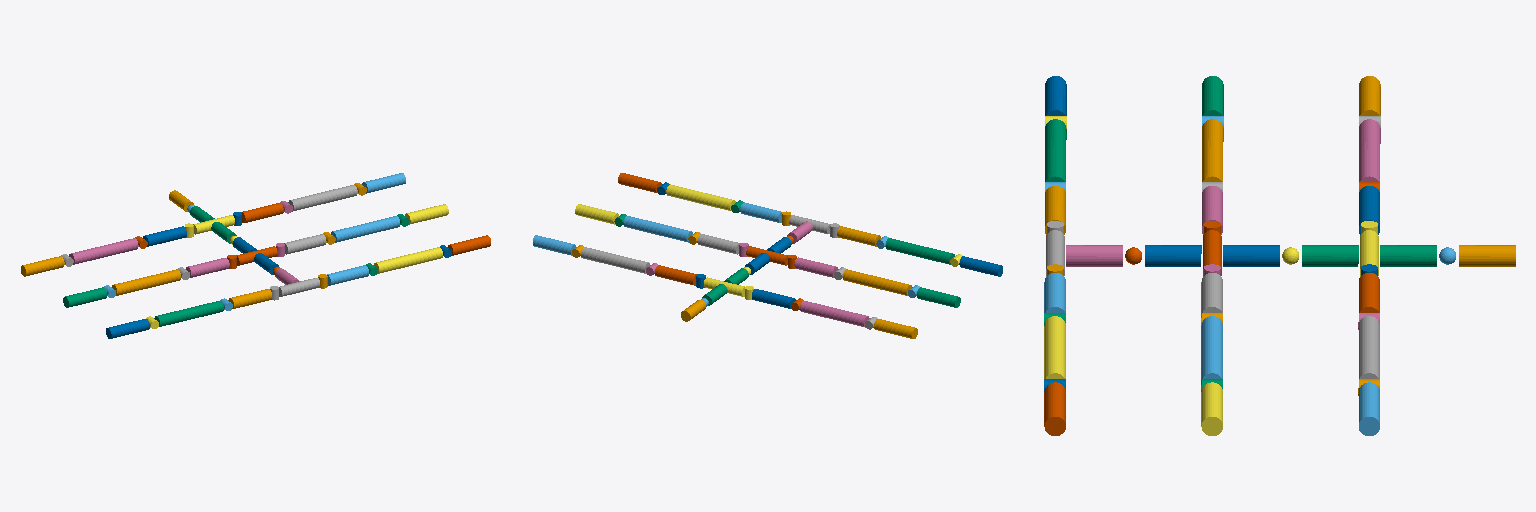
--- What the picture shows (computed from the rendered views, not written in the file) ---
3 views of the same robot in one strip: view 1: azimuth 30°, elevation 25°; view 2: azimuth 150°, elevation 25°; view 3: azimuth 270°, elevation 25° (orthographic).
Model contact/centipede with 54 links and 53 joints (21 revolute, 32 fixed), rooted at main0_A, posed all joints at 0.
Visible links, largest first — view 1: pair0leg2link2, pair1leg1link2, pair1leg2link2, pair2leg2link2, pair2leg1link2, pair0leg1link2; view 2: pair0leg1link2, pair0leg2link2, pair1leg1link2, pair1leg2link2, pair2leg1link2, pair2leg2link2; view 3: pair1leg1link2, pair2leg1link2, pair0leg2link2, pair1leg2link2, pair2leg2link2, pair0leg1link2, main0_A, main0, main1, main2, main1_A, main2_A (+15 smaller).
Link boxes in pixels (x1=…): pair0leg2link2: x1=69, y1=238, x2=138, y2=264; pair1leg1link2: x1=331, y1=216, x2=399, y2=242; pair1leg2link2: x1=112, y1=269, x2=180, y2=295; pair2leg2link2: x1=154, y1=301, x2=223, y2=326; pair2leg1link2: x1=374, y1=247, x2=442, y2=273; pair0leg1link2: x1=288, y1=185, x2=357, y2=211; pair0leg1link2: x1=581, y1=247, x2=649, y2=273; pair0leg2link2: x1=800, y1=301, x2=869, y2=327; pair1leg1link2: x1=624, y1=216, x2=692, y2=242; pair1leg2link2: x1=843, y1=269, x2=911, y2=295; pair2leg1link2: x1=666, y1=184, x2=735, y2=210; pair2leg2link2: x1=886, y1=238, x2=954, y2=264; pair1leg1link2: x1=1201, y1=316, x2=1222, y2=378; pair2leg1link2: x1=1044, y1=316, x2=1065, y2=378; pair0leg2link2: x1=1359, y1=119, x2=1380, y2=181; pair1leg2link2: x1=1202, y1=119, x2=1223, y2=181; pair2leg2link2: x1=1045, y1=119, x2=1066, y2=181; pair0leg1link2: x1=1359, y1=316, x2=1379, y2=378; main0_A: x1=1459, y1=245, x2=1515, y2=266; main0: x1=1380, y1=245, x2=1436, y2=266; main1: x1=1223, y1=245, x2=1279, y2=266; main2: x1=1066, y1=245, x2=1122, y2=266; main1_A: x1=1302, y1=245, x2=1358, y2=266; main2_A: x1=1145, y1=245, x2=1201, y2=266.
Bounding box of the posed robot: 2.98 × 1.74 × 0.0804 m (x, y, z).
Geometry: primitives only (box / cylinder / sphere), no mesh files.

URDF robot description (contact/centipede):
<?xml version="1.0"?>
<robot name="contact/centipede">
 <link name="main0_A">
  <inertial>
    <mass value="1"/>
    <inertia ixx="0.004075" ixy="0" ixz="0" iyy="0.004075" iyz="0" izz="0.0004"/>
  </inertial>
  <visual>
    <origin rpy="1.57 0 0" xyz="0 0 0"/>
    <geometry>
      <cylinder length="0.21" radius="0.04"/>
    </geometry>
  </visual>
  <collision>
    <origin rpy="1.57 0 0" xyz="0 0 0"/>
    <geometry>
      <cylinder length="0.21" radius="0.04"/>
    </geometry>
  </collision>
 </link>

<link name="main0_connector">
  <inertial>
   <mass value="1"/>
   <inertia ixx="0.00040960000000000004" ixy="0" ixz="0" iyy="0.00040960000000000004" iyz="0" izz="0.00040960000000000004"/>
  </inertial>
  <collision>
    <origin rpy="0 0 0" xyz="0 0 0"/>
    <geometry>
      <sphere radius="0.032"/>
    </geometry>
  </collision>
  <visual>
    <origin rpy="0 0 0" xyz="0 0 0"/>
    <geometry>
      <sphere radius="0.032"/>
    </geometry>
  </visual>
</link>

<joint name="joint_revolute_main0_A_main0_connector_Z" type="revolute">
  <origin rpy="0 0 0" xyz="0 -0.145 0"/>
  <parent link="main0_A"/>
  <child link="main0_connector"/>
  <axis xyz="1 0 0"/>
  <dynamics damping="0.01" friction="0.5"/>
  <limit lower="-1.57" upper="1.57" effort="0.01" velocity="100"/>
</joint>

 <link name="main0">
  <inertial>
    <mass value="1"/>
    <inertia ixx="0.004075" ixy="0" ixz="0" iyy="0.004075" iyz="0" izz="0.0004"/>
  </inertial>
  <visual>
    <origin rpy="1.57 0 0" xyz="0 0 0"/>
    <geometry>
      <cylinder length="0.21" radius="0.04"/>
    </geometry>
  </visual>
  <collision>
    <origin rpy="1.57 0 0" xyz="0 0 0"/>
    <geometry>
      <cylinder length="0.21" radius="0.04"/>
    </geometry>
  </collision>
 </link>

<joint name="joint_fixed_main0_connector_main0" type="fixed">
  <origin rpy="0 0 0" xyz="0 -0.145 0"/>
  <parent link="main0_connector"/>
  <child link="main0"/>
</joint>

 <link name="pair0middle_axis">
  <inertial>
    <mass value="1"/>
    <inertia ixx="0.007824" ixy="0" ixz="0" iyy="0.007824" iyz="0" izz="0.00032400000000000007"/>
  </inertial>
  <visual>
    <origin rpy="0 1.57 0" xyz="0 0 0"/>
    <geometry>
      <cylinder length="0.3" radius="0.036000000000000004"/>
    </geometry>
  </visual>
  <collision>
    <origin rpy="0 1.57 0" xyz="0 0 0"/>
    <geometry>
      <cylinder length="0.3" radius="0.036000000000000004"/>
    </geometry>
  </collision>
 </link>

<joint name="joint_fixed_main0_pair0middle_axis" type="fixed">
  <origin rpy="0 0 0" xyz="0 -0.145 0"/>
  <parent link="main0"/>
  <child link="pair0middle_axis"/>
</joint>

 <link name="pair0leg1central_link">
  <inertial>
    <mass value="1"/>
    <inertia ixx="0.0007893333333333333" ixy="0" ixz="0" iyy="0.0007893333333333333" iyz="0" izz="0.000256"/>
  </inertial>
  <visual>
    <origin rpy="0 0 1.57" xyz="0 0 0"/>
    <geometry>
      <cylinder length="0.08" radius="0.032"/>
    </geometry>
  </visual>
  <collision>
    <origin rpy="0 0 1.57" xyz="0 0 0"/>
    <geometry>
      <cylinder length="0.08" radius="0.032"/>
    </geometry>
  </collision>
 </link>

<joint name="joint_fixed_pair0middle_axis_pair0leg1central_link" type="fixed">
  <origin rpy="0 0 0" xyz="0.19 0 0"/>
  <parent link="pair0middle_axis"/>
  <child link="pair0leg1central_link"/>
</joint>

 <link name="pair0leg1link1">
  <inertial>
    <mass value="1"/>
    <inertia ixx="0.007899999999999999" ixy="0" ixz="0" iyy="0.007899999999999999" iyz="0" izz="0.0004"/>
  </inertial>
  <visual>
    <origin rpy="0 1.57 0" xyz="0.19 0 0"/>
    <geometry>
      <cylinder length="0.3" radius="0.04"/>
    </geometry>
  </visual>
  <collision>
    <origin rpy="0 1.57 0" xyz="0.19 0 0"/>
    <geometry>
      <cylinder length="0.3" radius="0.04"/>
    </geometry>
  </collision>
 </link>

<joint name="joint_revolute_pair0leg1central_link_pair0leg1link1_Z" type="revolute">
  <origin rpy="0 0 0" xyz="0 0 0"/>
  <parent link="pair0leg1central_link"/>
  <child link="pair0leg1link1"/>
  <axis xyz="0 0 1"/>
  <dynamics damping="0.01" friction="0.5"/>
  <limit lower="-1.57" upper="1.57" effort="0.01" velocity="100"/>
</joint>

 <link name="pair0leg1joint1">
  <inertial>
    <mass value="1"/>
    <inertia ixx="0.0007893333333333333" ixy="0" ixz="0" iyy="0.0007893333333333333" iyz="0" izz="0.000256"/>
  </inertial>
  <visual>
    <origin rpy="1.57 0 0" xyz="0.37999999999999995 0 0"/>
    <geometry>
      <cylinder length="0.08" radius="0.032"/>
    </geometry>
  </visual>
  <collision>
    <origin rpy="1.57 0 0" xyz="0.37999999999999995 0 0"/>
    <geometry>
      <cylinder length="0.08" radius="0.032"/>
    </geometry>
  </collision>
 </link>

<joint name="joint_fixed_pair0leg1link1_pair0leg1joint1" type="fixed">
  <origin rpy="0 0 0" xyz="0 0 0"/>
  <parent link="pair0leg1link1"/>
  <child link="pair0leg1joint1"/>
</joint>

 <link name="pair0leg1link2">
  <inertial>
    <mass value="1"/>
    <inertia ixx="0.021233333333333333" ixy="0" ixz="0" iyy="0.021233333333333333" iyz="0" izz="0.0004"/>
  </inertial>
  <visual>
    <origin rpy="0 1.57 0" xyz="0.29 0 0"/>
    <geometry>
      <cylinder length="0.5" radius="0.04"/>
    </geometry>
  </visual>
  <collision>
    <origin rpy="0 1.57 0" xyz="0.29 0 0"/>
    <geometry>
      <cylinder length="0.5" radius="0.04"/>
    </geometry>
  </collision>
 </link>

<joint name="joint_revolute_pair0leg1joint1_pair0leg1link2_Z" type="revolute">
  <origin rpy="0 0 0" xyz="0.37999999999999995 0 0"/>
  <parent link="pair0leg1joint1"/>
  <child link="pair0leg1link2"/>
  <axis xyz="0 1 0"/>
  <dynamics damping="0.01" friction="0.5"/>
  <limit lower="-1.57" upper="1.57" effort="0.01" velocity="100"/>
</joint>

 <link name="pair0leg1joint2">
  <inertial>
    <mass value="1"/>
    <inertia ixx="0.0007893333333333333" ixy="0" ixz="0" iyy="0.0007893333333333333" iyz="0" izz="0.000256"/>
  </inertial>
  <visual>
    <origin rpy="1.57 0 0" xyz="0.58 0 0"/>
    <geometry>
      <cylinder length="0.08" radius="0.032"/>
    </geometry>
  </visual>
  <collision>
    <origin rpy="1.57 0 0" xyz="0.58 0 0"/>
    <geometry>
      <cylinder length="0.08" radius="0.032"/>
    </geometry>
  </collision>
 </link>

<joint name="joint_fixed_pair0leg1link2_pair0leg1joint2" type="fixed">
  <origin rpy="0 0 0" xyz="0 0 0"/>
  <parent link="pair0leg1link2"/>
  <child link="pair0leg1joint2"/>
</joint>

 <link name="pair0leg1link3">
  <inertial>
    <mass value="1"/>
    <inertia ixx="0.007899999999999999" ixy="0" ixz="0" iyy="0.007899999999999999" iyz="0" izz="0.0004"/>
  </inertial>
  <visual>
    <origin rpy="0 1.57 0" xyz="0.19 0 0"/>
    <geometry>
      <cylinder length="0.3" radius="0.04"/>
    </geometry>
  </visual>
  <collision>
    <origin rpy="0 1.57 0" xyz="0.19 0 0"/>
    <geometry>
      <cylinder length="0.3" radius="0.04"/>
    </geometry>
  </collision>
 </link>

<joint name="joint_revolute_pair0leg1joint2_pair0leg1link3_Z" type="revolute">
  <origin rpy="0 0 0" xyz="0.58 0 0"/>
  <parent link="pair0leg1joint2"/>
  <child link="pair0leg1link3"/>
  <axis xyz="0 1 0"/>
  <dynamics damping="0.01" friction="0.5"/>
  <limit lower="-1.57" upper="1.57" effort="0.01" velocity="100"/>
</joint>

<link name="pair0leg1foot" physical="0">
  <inertial>
   <mass value="1"/>
   <inertia ixx="0.4" ixy="0" ixz="0" iyy="0.4" iyz="0" izz="0.4"/>
  </inertial>
</link>

<joint name="joint_fixed_pair0leg1link3_pair0leg1foot" type="fixed">
  <origin rpy="0 0 0" xyz="0.37999999999999995 0 0"/>
  <parent link="pair0leg1link3"/>
  <child link="pair0leg1foot"/>
</joint>

 <link name="pair0leg2central_link">
  <inertial>
    <mass value="1"/>
    <inertia ixx="0.0007893333333333333" ixy="0" ixz="0" iyy="0.0007893333333333333" iyz="0" izz="0.000256"/>
  </inertial>
  <visual>
    <origin rpy="0 0 1.57" xyz="0 0 0"/>
    <geometry>
      <cylinder length="0.08" radius="0.032"/>
    </geometry>
  </visual>
  <collision>
    <origin rpy="0 0 1.57" xyz="0 0 0"/>
    <geometry>
      <cylinder length="0.08" radius="0.032"/>
    </geometry>
  </collision>
 </link>

<joint name="joint_fixed_pair0middle_axis_pair0leg2central_link" type="fixed">
  <origin rpy="0 0 3.14" xyz="-0.19 0 0"/>
  <parent link="pair0middle_axis"/>
  <child link="pair0leg2central_link"/>
</joint>

 <link name="pair0leg2link1">
  <inertial>
    <mass value="1"/>
    <inertia ixx="0.007899999999999999" ixy="0" ixz="0" iyy="0.007899999999999999" iyz="0" izz="0.0004"/>
  </inertial>
  <visual>
    <origin rpy="0 1.57 0" xyz="0.19 0 0"/>
    <geometry>
      <cylinder length="0.3" radius="0.04"/>
    </geometry>
  </visual>
  <collision>
    <origin rpy="0 1.57 0" xyz="0.19 0 0"/>
    <geometry>
      <cylinder length="0.3" radius="0.04"/>
    </geometry>
  </collision>
 </link>

<joint name="joint_revolute_pair0leg2central_link_pair0leg2link1_Z" type="revolute">
  <origin rpy="0 0 0" xyz="0 0 0"/>
  <parent link="pair0leg2central_link"/>
  <child link="pair0leg2link1"/>
  <axis xyz="0 0 1"/>
  <dynamics damping="0.01" friction="0.5"/>
  <limit lower="-1.57" upper="1.57" effort="0.01" velocity="100"/>
</joint>

 <link name="pair0leg2joint1">
  <inertial>
    <mass value="1"/>
    <inertia ixx="0.0007893333333333333" ixy="0" ixz="0" iyy="0.0007893333333333333" iyz="0" izz="0.000256"/>
  </inertial>
  <visual>
    <origin rpy="1.57 0 0" xyz="0.37999999999999995 0 0"/>
    <geometry>
      <cylinder length="0.08" radius="0.032"/>
    </geometry>
  </visual>
  <collision>
    <origin rpy="1.57 0 0" xyz="0.37999999999999995 0 0"/>
    <geometry>
      <cylinder length="0.08" radius="0.032"/>
    </geometry>
  </collision>
 </link>

<joint name="joint_fixed_pair0leg2link1_pair0leg2joint1" type="fixed">
  <origin rpy="0 0 0" xyz="0 0 0"/>
  <parent link="pair0leg2link1"/>
  <child link="pair0leg2joint1"/>
</joint>

 <link name="pair0leg2link2">
  <inertial>
    <mass value="1"/>
    <inertia ixx="0.021233333333333333" ixy="0" ixz="0" iyy="0.021233333333333333" iyz="0" izz="0.0004"/>
  </inertial>
  <visual>
    <origin rpy="0 1.57 0" xyz="0.29 0 0"/>
    <geometry>
      <cylinder length="0.5" radius="0.04"/>
    </geometry>
  </visual>
  <collision>
    <origin rpy="0 1.57 0" xyz="0.29 0 0"/>
    <geometry>
      <cylinder length="0.5" radius="0.04"/>
    </geometry>
  </collision>
 </link>

<joint name="joint_revolute_pair0leg2joint1_pair0leg2link2_Z" type="revolute">
  <origin rpy="0 0 0" xyz="0.37999999999999995 0 0"/>
  <parent link="pair0leg2joint1"/>
  <child link="pair0leg2link2"/>
  <axis xyz="0 1 0"/>
  <dynamics damping="0.01" friction="0.5"/>
  <limit lower="-1.57" upper="1.57" effort="0.01" velocity="100"/>
</joint>

 <link name="pair0leg2joint2">
  <inertial>
    <mass value="1"/>
    <inertia ixx="0.0007893333333333333" ixy="0" ixz="0" iyy="0.0007893333333333333" iyz="0" izz="0.000256"/>
  </inertial>
  <visual>
    <origin rpy="1.57 0 0" xyz="0.58 0 0"/>
    <geometry>
      <cylinder length="0.08" radius="0.032"/>
    </geometry>
  </visual>
  <collision>
    <origin rpy="1.57 0 0" xyz="0.58 0 0"/>
    <geometry>
      <cylinder length="0.08" radius="0.032"/>
    </geometry>
  </collision>
 </link>

<joint name="joint_fixed_pair0leg2link2_pair0leg2joint2" type="fixed">
  <origin rpy="0 0 0" xyz="0 0 0"/>
  <parent link="pair0leg2link2"/>
  <child link="pair0leg2joint2"/>
</joint>

 <link name="pair0leg2link3">
  <inertial>
    <mass value="1"/>
    <inertia ixx="0.007899999999999999" ixy="0" ixz="0" iyy="0.007899999999999999" iyz="0" izz="0.0004"/>
  </inertial>
  <visual>
    <origin rpy="0 1.57 0" xyz="0.19 0 0"/>
    <geometry>
      <cylinder length="0.3" radius="0.04"/>
    </geometry>
  </visual>
  <collision>
    <origin rpy="0 1.57 0" xyz="0.19 0 0"/>
    <geometry>
      <cylinder length="0.3" radius="0.04"/>
    </geometry>
  </collision>
 </link>

<joint name="joint_revolute_pair0leg2joint2_pair0leg2link3_Z" type="revolute">
  <origin rpy="0 0 0" xyz="0.58 0 0"/>
  <parent link="pair0leg2joint2"/>
  <child link="pair0leg2link3"/>
  <axis xyz="0 1 0"/>
  <dynamics damping="0.01" friction="0.5"/>
  <limit lower="-1.57" upper="1.57" effort="0.01" velocity="100"/>
</joint>

<link name="pair0leg2foot" physical="0">
  <inertial>
   <mass value="1"/>
   <inertia ixx="0.4" ixy="0" ixz="0" iyy="0.4" iyz="0" izz="0.4"/>
  </inertial>
</link>

<joint name="joint_fixed_pair0leg2link3_pair0leg2foot" type="fixed">
  <origin rpy="0 0 0" xyz="0.37999999999999995 0 0"/>
  <parent link="pair0leg2link3"/>
  <child link="pair0leg2foot"/>
</joint>

 <link name="main1_A">
  <inertial>
    <mass value="1"/>
    <inertia ixx="0.004075" ixy="0" ixz="0" iyy="0.004075" iyz="0" izz="0.0004"/>
  </inertial>
  <visual>
    <origin rpy="1.57 0 0" xyz="0 0 0"/>
    <geometry>
      <cylinder length="0.21" radius="0.04"/>
    </geometry>
  </visual>
  <collision>
    <origin rpy="1.57 0 0" xyz="0 0 0"/>
    <geometry>
      <cylinder length="0.21" radius="0.04"/>
    </geometry>
  </collision>
 </link>

<joint name="joint_fixed_main0_main1_A" type="fixed">
  <origin rpy="0 0 0" xyz="0 -0.29 0"/>
  <parent link="main0"/>
  <child link="main1_A"/>
</joint>

<link name="main1_connector">
  <inertial>
   <mass value="1"/>
   <inertia ixx="0.00040960000000000004" ixy="0" ixz="0" iyy="0.00040960000000000004" iyz="0" izz="0.00040960000000000004"/>
  </inertial>
  <collision>
    <origin rpy="0 0 0" xyz="0 0 0"/>
    <geometry>
      <sphere radius="0.032"/>
    </geometry>
  </collision>
  <visual>
    <origin rpy="0 0 0" xyz="0 0 0"/>
    <geometry>
      <sphere radius="0.032"/>
    </geometry>
  </visual>
</link>

<joint name="joint_revolute_main1_A_main1_connector_Z" type="revolute">
  <origin rpy="0 0 0" xyz="0 -0.145 0"/>
  <parent link="main1_A"/>
  <child link="main1_connector"/>
  <axis xyz="1 0 0"/>
  <dynamics damping="0.01" friction="0.5"/>
  <limit lower="-1.57" upper="1.57" effort="0.01" velocity="100"/>
</joint>

 <link name="main1">
  <inertial>
    <mass value="1"/>
    <inertia ixx="0.004075" ixy="0" ixz="0" iyy="0.004075" iyz="0" izz="0.0004"/>
  </inertial>
  <visual>
    <origin rpy="1.57 0 0" xyz="0 0 0"/>
    <geometry>
      <cylinder length="0.21" radius="0.04"/>
    </geometry>
  </visual>
  <collision>
    <origin rpy="1.57 0 0" xyz="0 0 0"/>
    <geometry>
      <cylinder length="0.21" radius="0.04"/>
    </geometry>
  </collision>
 </link>

<joint name="joint_fixed_main1_connector_main1" type="fixed">
  <origin rpy="0 0 0" xyz="0 -0.145 0"/>
  <parent link="main1_connector"/>
  <child link="main1"/>
</joint>

 <link name="pair1middle_axis">
  <inertial>
    <mass value="1"/>
    <inertia ixx="0.007824" ixy="0" ixz="0" iyy="0.007824" iyz="0" izz="0.00032400000000000007"/>
  </inertial>
  <visual>
    <origin rpy="0 1.57 0" xyz="0 0 0"/>
    <geometry>
      <cylinder length="0.3" radius="0.036000000000000004"/>
    </geometry>
  </visual>
  <collision>
    <origin rpy="0 1.57 0" xyz="0 0 0"/>
    <geometry>
      <cylinder length="0.3" radius="0.036000000000000004"/>
    </geometry>
  </collision>
 </link>

<joint name="joint_fixed_main1_pair1middle_axis" type="fixed">
  <origin rpy="0 0 0" xyz="0 -0.145 0"/>
  <parent link="main1"/>
  <child link="pair1middle_axis"/>
</joint>

 <link name="pair1leg1central_link">
  <inertial>
    <mass value="1"/>
    <inertia ixx="0.0007893333333333333" ixy="0" ixz="0" iyy="0.0007893333333333333" iyz="0" izz="0.000256"/>
  </inertial>
  <visual>
    <origin rpy="0 0 1.57" xyz="0 0 0"/>
    <geometry>
      <cylinder length="0.08" radius="0.032"/>
    </geometry>
  </visual>
  <collision>
    <origin rpy="0 0 1.57" xyz="0 0 0"/>
    <geometry>
      <cylinder length="0.08" radius="0.032"/>
    </geometry>
  </collision>
 </link>

<joint name="joint_fixed_pair1middle_axis_pair1leg1central_link" type="fixed">
  <origin rpy="0 0 0" xyz="0.19 0 0"/>
  <parent link="pair1middle_axis"/>
  <child link="pair1leg1central_link"/>
</joint>

 <link name="pair1leg1link1">
  <inertial>
    <mass value="1"/>
    <inertia ixx="0.007899999999999999" ixy="0" ixz="0" iyy="0.007899999999999999" iyz="0" izz="0.0004"/>
  </inertial>
  <visual>
    <origin rpy="0 1.57 0" xyz="0.19 0 0"/>
    <geometry>
      <cylinder length="0.3" radius="0.04"/>
    </geometry>
  </visual>
  <collision>
    <origin rpy="0 1.57 0" xyz="0.19 0 0"/>
    <geometry>
      <cylinder length="0.3" radius="0.04"/>
    </geometry>
  </collision>
 </link>

<joint name="joint_revolute_pair1leg1central_link_pair1leg1link1_Z" type="revolute">
  <origin rpy="0 0 0" xyz="0 0 0"/>
  <parent link="pair1leg1central_link"/>
  <child link="pair1leg1link1"/>
  <axis xyz="0 0 1"/>
  <dynamics damping="0.01" friction="0.5"/>
  <limit lower="-1.57" upper="1.57" effort="0.01" velocity="100"/>
</joint>

 <link name="pair1leg1joint1">
  <inertial>
    <mass value="1"/>
    <inertia ixx="0.0007893333333333333" ixy="0" ixz="0" iyy="0.0007893333333333333" iyz="0" izz="0.000256"/>
  </inertial>
  <visual>
    <origin rpy="1.57 0 0" xyz="0.37999999999999995 0 0"/>
    <geometry>
      <cylinder length="0.08" radius="0.032"/>
    </geometry>
  </visual>
  <collision>
    <origin rpy="1.57 0 0" xyz="0.37999999999999995 0 0"/>
    <geometry>
      <cylinder length="0.08" radius="0.032"/>
    </geometry>
  </collision>
 </link>

<joint name="joint_fixed_pair1leg1link1_pair1leg1joint1" type="fixed">
  <origin rpy="0 0 0" xyz="0 0 0"/>
  <parent link="pair1leg1link1"/>
  <child link="pair1leg1joint1"/>
</joint>

 <link name="pair1leg1link2">
  <inertial>
    <mass value="1"/>
    <inertia ixx="0.021233333333333333" ixy="0" ixz="0" iyy="0.021233333333333333" iyz="0" izz="0.0004"/>
  </inertial>
  <visual>
    <origin rpy="0 1.57 0" xyz="0.29 0 0"/>
    <geometry>
      <cylinder length="0.5" radius="0.04"/>
    </geometry>
  </visual>
  <collision>
    <origin rpy="0 1.57 0" xyz="0.29 0 0"/>
    <geometry>
      <cylinder length="0.5" radius="0.04"/>
    </geometry>
  </collision>
 </link>

<joint name="joint_revolute_pair1leg1joint1_pair1leg1link2_Z" type="revolute">
  <origin rpy="0 0 0" xyz="0.37999999999999995 0 0"/>
  <parent link="pair1leg1joint1"/>
  <child link="pair1leg1link2"/>
  <axis xyz="0 1 0"/>
  <dynamics damping="0.01" friction="0.5"/>
  <limit lower="-1.57" upper="1.57" effort="0.01" velocity="100"/>
</joint>

 <link name="pair1leg1joint2">
  <inertial>
    <mass value="1"/>
    <inertia ixx="0.0007893333333333333" ixy="0" ixz="0" iyy="0.0007893333333333333" iyz="0" izz="0.000256"/>
  </inertial>
  <visual>
    <origin rpy="1.57 0 0" xyz="0.58 0 0"/>
    <geometry>
      <cylinder length="0.08" radius="0.032"/>
    </geometry>
  </visual>
  <collision>
    <origin rpy="1.57 0 0" xyz="0.58 0 0"/>
    <geometry>
      <cylinder length="0.08" radius="0.032"/>
    </geometry>
  </collision>
 </link>

<joint name="joint_fixed_pair1leg1link2_pair1leg1joint2" type="fixed">
  <origin rpy="0 0 0" xyz="0 0 0"/>
  <parent link="pair1leg1link2"/>
  <child link="pair1leg1joint2"/>
</joint>

 <link name="pair1leg1link3">
  <inertial>
    <mass value="1"/>
    <inertia ixx="0.007899999999999999" ixy="0" ixz="0" iyy="0.007899999999999999" iyz="0" izz="0.0004"/>
  </inertial>
  <visual>
    <origin rpy="0 1.57 0" xyz="0.19 0 0"/>
    <geometry>
      <cylinder length="0.3" radius="0.04"/>
    </geometry>
  </visual>
  <collision>
    <origin rpy="0 1.57 0" xyz="0.19 0 0"/>
    <geometry>
      <cylinder length="0.3" radius="0.04"/>
    </geometry>
  </collision>
 </link>

<joint name="joint_revolute_pair1leg1joint2_pair1leg1link3_Z" type="revolute">
  <origin rpy="0 0 0" xyz="0.58 0 0"/>
  <parent link="pair1leg1joint2"/>
  <child link="pair1leg1link3"/>
  <axis xyz="0 1 0"/>
  <dynamics damping="0.01" friction="0.5"/>
  <limit lower="-1.57" upper="1.57" effort="0.01" velocity="100"/>
</joint>

<link name="pair1leg1foot" physical="0">
  <inertial>
   <mass value="1"/>
   <inertia ixx="0.4" ixy="0" ixz="0" iyy="0.4" iyz="0" izz="0.4"/>
  </inertial>
</link>

<joint name="joint_fixed_pair1leg1link3_pair1leg1foot" type="fixed">
  <origin rpy="0 0 0" xyz="0.37999999999999995 0 0"/>
  <parent link="pair1leg1link3"/>
  <child link="pair1leg1foot"/>
</joint>

 <link name="pair1leg2central_link">
  <inertial>
    <mass value="1"/>
    <inertia ixx="0.0007893333333333333" ixy="0" ixz="0" iyy="0.0007893333333333333" iyz="0" izz="0.000256"/>
  </inertial>
  <visual>
    <origin rpy="0 0 1.57" xyz="0 0 0"/>
    <geometry>
      <cylinder length="0.08" radius="0.032"/>
    </geometry>
  </visual>
  <collision>
    <origin rpy="0 0 1.57" xyz="0 0 0"/>
    <geometry>
      <cylinder length="0.08" radius="0.032"/>
    </geometry>
  </collision>
 </link>

<joint name="joint_fixed_pair1middle_axis_pair1leg2central_link" type="fixed">
  <origin rpy="0 0 3.14" xyz="-0.19 0 0"/>
  <parent link="pair1middle_axis"/>
  <child link="pair1leg2central_link"/>
</joint>

 <link name="pair1leg2link1">
  <inertial>
    <mass value="1"/>
    <inertia ixx="0.007899999999999999" ixy="0" ixz="0" iyy="0.007899999999999999" iyz="0" izz="0.0004"/>
  </inertial>
  <visual>
    <origin rpy="0 1.57 0" xyz="0.19 0 0"/>
    <geometry>
      <cylinder length="0.3" radius="0.04"/>
    </geometry>
  </visual>
  <collision>
    <origin rpy="0 1.57 0" xyz="0.19 0 0"/>
    <geometry>
      <cylinder length="0.3" radius="0.04"/>
    </geometry>
  </collision>
 </link>

<joint name="joint_revolute_pair1leg2central_link_pair1leg2link1_Z" type="revolute">
  <origin rpy="0 0 0" xyz="0 0 0"/>
  <parent link="pair1leg2central_link"/>
  <child link="pair1leg2link1"/>
  <axis xyz="0 0 1"/>
  <dynamics damping="0.01" friction="0.5"/>
  <limit lower="-1.57" upper="1.57" effort="0.01" velocity="100"/>
</joint>

 <link name="pair1leg2joint1">
  <inertial>
    <mass value="1"/>
    <inertia ixx="0.0007893333333333333" ixy="0" ixz="0" iyy="0.0007893333333333333" iyz="0" izz="0.000256"/>
  </inertial>
  <visual>
    <origin rpy="1.57 0 0" xyz="0.37999999999999995 0 0"/>
    <geometry>
      <cylinder length="0.08" radius="0.032"/>
    </geometry>
  </visual>
  <collision>
    <origin rpy="1.57 0 0" xyz="0.37999999999999995 0 0"/>
    <geometry>
      <cylinder length="0.08" radius="0.032"/>
    </geometry>
  </collision>
 </link>

<joint name="joint_fixed_pair1leg2link1_pair1leg2joint1" type="fixed">
  <origin rpy="0 0 0" xyz="0 0 0"/>
  <parent link="pair1leg2link1"/>
  <child link="pair1leg2joint1"/>
</joint>

 <link name="pair1leg2link2">
  <inertial>
    <mass value="1"/>
    <inertia ixx="0.021233333333333333" ixy="0" ixz="0" iyy="0.021233333333333333" iyz="0" izz="0.0004"/>
  </inertial>
  <visual>
    <origin rpy="0 1.57 0" xyz="0.29 0 0"/>
    <geometry>
      <cylinder length="0.5" radius="0.04"/>
    </geometry>
  </visual>
  <collision>
    <origin rpy="0 1.57 0" xyz="0.29 0 0"/>
    <geometry>
      <cylinder length="0.5" radius="0.04"/>
    </geometry>
  </collision>
 </link>

<joint name="joint_revolute_pair1leg2joint1_pair1leg2link2_Z" type="revolute">
  <origin rpy="0 0 0" xyz="0.37999999999999995 0 0"/>
  <parent link="pair1leg2joint1"/>
  <child link="pair1leg2link2"/>
  <axis xyz="0 1 0"/>
  <dynamics damping="0.01" friction="0.5"/>
  <limit lower="-1.57" upper="1.57" effort="0.01" velocity="100"/>
</joint>

 <link name="pair1leg2joint2">
  <inertial>
    <mass value="1"/>
    <inertia ixx="0.0007893333333333333" ixy="0" ixz="0" iyy="0.0007893333333333333" iyz="0" izz="0.000256"/>
  </inertial>
  <visual>
    <origin rpy="1.57 0 0" xyz="0.58 0 0"/>
    <geometry>
      <cylinder length="0.08" radius="0.032"/>
    </geometry>
  </visual>
  <collision>
    <origin rpy="1.57 0 0" xyz="0.58 0 0"/>
    <geometry>
      <cylinder length="0.08" radius="0.032"/>
    </geometry>
  </collision>
 </link>

<joint name="joint_fixed_pair1leg2link2_pair1leg2joint2" type="fixed">
  <origin rpy="0 0 0" xyz="0 0 0"/>
  <parent link="pair1leg2link2"/>
  <child link="pair1leg2joint2"/>
</joint>

 <link name="pair1leg2link3">
  <inertial>
    <mass value="1"/>
    <inertia ixx="0.007899999999999999" ixy="0" ixz="0" iyy="0.007899999999999999" iyz="0" izz="0.0004"/>
  </inertial>
  <visual>
    <origin rpy="0 1.57 0" xyz="0.19 0 0"/>
    <geometry>
      <cylinder length="0.3" radius="0.04"/>
    </geometry>
  </visual>
  <collision>
    <origin rpy="0 1.57 0" xyz="0.19 0 0"/>
    <geometry>
      <cylinder length="0.3" radius="0.04"/>
    </geometry>
  </collision>
 </link>

<joint name="joint_revolute_pair1leg2joint2_pair1leg2link3_Z" type="revolute">
  <origin rpy="0 0 0" xyz="0.58 0 0"/>
  <parent link="pair1leg2joint2"/>
  <child link="pair1leg2link3"/>
  <axis xyz="0 1 0"/>
  <dynamics damping="0.01" friction="0.5"/>
  <limit lower="-1.57" upper="1.57" effort="0.01" velocity="100"/>
</joint>

<link name="pair1leg2foot" physical="0">
  <inertial>
   <mass value="1"/>
   <inertia ixx="0.4" ixy="0" ixz="0" iyy="0.4" iyz="0" izz="0.4"/>
  </inertial>
</link>

<joint name="joint_fixed_pair1leg2link3_pair1leg2foot" type="fixed">
  <origin rpy="0 0 0" xyz="0.37999999999999995 0 0"/>
  <parent link="pair1leg2link3"/>
  <child link="pair1leg2foot"/>
</joint>

 <link name="main2_A">
  <inertial>
    <mass value="1"/>
    <inertia ixx="0.004075" ixy="0" ixz="0" iyy="0.004075" iyz="0" izz="0.0004"/>
  </inertial>
  <visual>
    <origin rpy="1.57 0 0" xyz="0 0 0"/>
    <geometry>
      <cylinder length="0.21" radius="0.04"/>
    </geometry>
  </visual>
  <collision>
    <origin rpy="1.57 0 0" xyz="0 0 0"/>
    <geometry>
      <cylinder length="0.21" radius="0.04"/>
    </geometry>
  </collision>
 </link>

<joint name="joint_fixed_main1_main2_A" type="fixed">
  <origin rpy="0 0 0" xyz="0 -0.29 0"/>
  <parent link="main1"/>
  <child link="main2_A"/>
</joint>

<link name="main2_connector">
  <inertial>
   <mass value="1"/>
   <inertia ixx="0.00040960000000000004" ixy="0" ixz="0" iyy="0.00040960000000000004" iyz="0" izz="0.00040960000000000004"/>
  </inertial>
  <collision>
    <origin rpy="0 0 0" xyz="0 0 0"/>
    <geometry>
      <sphere radius="0.032"/>
    </geometry>
  </collision>
  <visual>
    <origin rpy="0 0 0" xyz="0 0 0"/>
    <geometry>
      <sphere radius="0.032"/>
    </geometry>
  </visual>
</link>

<joint name="joint_revolute_main2_A_main2_connector_Z" type="revolute">
  <origin rpy="0 0 0" xyz="0 -0.145 0"/>
  <parent link="main2_A"/>
  <child link="main2_connector"/>
  <axis xyz="1 0 0"/>
  <dynamics damping="0.01" friction="0.5"/>
  <limit lower="-1.57" upper="1.57" effort="0.01" velocity="100"/>
</joint>

 <link name="main2">
  <inertial>
    <mass value="1"/>
    <inertia ixx="0.004075" ixy="0" ixz="0" iyy="0.004075" iyz="0" izz="0.0004"/>
  </inertial>
  <visual>
    <origin rpy="1.57 0 0" xyz="0 0 0"/>
    <geometry>
      <cylinder length="0.21" radius="0.04"/>
    </geometry>
  </visual>
  <collision>
    <origin rpy="1.57 0 0" xyz="0 0 0"/>
    <geometry>
      <cylinder length="0.21" radius="0.04"/>
    </geometry>
  </collision>
 </link>

<joint name="joint_fixed_main2_connector_main2" type="fixed">
  <origin rpy="0 0 0" xyz="0 -0.145 0"/>
  <parent link="main2_connector"/>
  <child link="main2"/>
</joint>

 <link name="pair2middle_axis">
  <inertial>
    <mass value="1"/>
    <inertia ixx="0.007824" ixy="0" ixz="0" iyy="0.007824" iyz="0" izz="0.00032400000000000007"/>
  </inertial>
  <visual>
    <origin rpy="0 1.57 0" xyz="0 0 0"/>
    <geometry>
      <cylinder length="0.3" radius="0.036000000000000004"/>
    </geometry>
  </visual>
  <collision>
    <origin rpy="0 1.57 0" xyz="0 0 0"/>
    <geometry>
      <cylinder length="0.3" radius="0.036000000000000004"/>
    </geometry>
  </collision>
 </link>

<joint name="joint_fixed_main2_pair2middle_axis" type="fixed">
  <origin rpy="0 0 0" xyz="0 -0.145 0"/>
  <parent link="main2"/>
  <child link="pair2middle_axis"/>
</joint>

 <link name="pair2leg1central_link">
  <inertial>
    <mass value="1"/>
    <inertia ixx="0.0007893333333333333" ixy="0" ixz="0" iyy="0.0007893333333333333" iyz="0" izz="0.000256"/>
  </inertial>
  <visual>
    <origin rpy="0 0 1.57" xyz="0 0 0"/>
    <geometry>
      <cylinder length="0.08" radius="0.032"/>
    </geometry>
  </visual>
  <collision>
    <origin rpy="0 0 1.57" xyz="0 0 0"/>
    <geometry>
      <cylinder length="0.08" radius="0.032"/>
    </geometry>
  </collision>
 </link>

<joint name="joint_fixed_pair2middle_axis_pair2leg1central_link" type="fixed">
  <origin rpy="0 0 0" xyz="0.19 0 0"/>
  <parent link="pair2middle_axis"/>
  <child link="pair2leg1central_link"/>
</joint>

 <link name="pair2leg1link1">
  <inertial>
    <mass value="1"/>
    <inertia ixx="0.007899999999999999" ixy="0" ixz="0" iyy="0.007899999999999999" iyz="0" izz="0.0004"/>
  </inertial>
  <visual>
    <origin rpy="0 1.57 0" xyz="0.19 0 0"/>
    <geometry>
      <cylinder length="0.3" radius="0.04"/>
    </geometry>
  </visual>
  <collision>
    <origin rpy="0 1.57 0" xyz="0.19 0 0"/>
    <geometry>
      <cylinder length="0.3" radius="0.04"/>
    </geometry>
  </collision>
 </link>

<joint name="joint_revolute_pair2leg1central_link_pair2leg1link1_Z" type="revolute">
  <origin rpy="0 0 0" xyz="0 0 0"/>
  <parent link="pair2leg1central_link"/>
  <child link="pair2leg1link1"/>
  <axis xyz="0 0 1"/>
  <dynamics damping="0.01" friction="0.5"/>
  <limit lower="-1.57" upper="1.57" effort="0.01" velocity="100"/>
</joint>

 <link name="pair2leg1joint1">
  <inertial>
    <mass value="1"/>
    <inertia ixx="0.0007893333333333333" ixy="0" ixz="0" iyy="0.0007893333333333333" iyz="0" izz="0.000256"/>
  </inertial>
  <visual>
    <origin rpy="1.57 0 0" xyz="0.37999999999999995 0 0"/>
    <geometry>
      <cylinder length="0.08" radius="0.032"/>
    </geometry>
  </visual>
  <collision>
    <origin rpy="1.57 0 0" xyz="0.37999999999999995 0 0"/>
    <geometry>
      <cylinder length="0.08" radius="0.032"/>
    </geometry>
  </collision>
 </link>

<joint name="joint_fixed_pair2leg1link1_pair2leg1joint1" type="fixed">
  <origin rpy="0 0 0" xyz="0 0 0"/>
  <parent link="pair2leg1link1"/>
  <child link="pair2leg1joint1"/>
</joint>

 <link name="pair2leg1link2">
  <inertial>
    <mass value="1"/>
    <inertia ixx="0.021233333333333333" ixy="0" ixz="0" iyy="0.021233333333333333" iyz="0" izz="0.0004"/>
  </inertial>
  <visual>
    <origin rpy="0 1.57 0" xyz="0.29 0 0"/>
    <geometry>
      <cylinder length="0.5" radius="0.04"/>
    </geometry>
  </visual>
  <collision>
    <origin rpy="0 1.57 0" xyz="0.29 0 0"/>
    <geometry>
      <cylinder length="0.5" radius="0.04"/>
    </geometry>
  </collision>
 </link>

<joint name="joint_revolute_pair2leg1joint1_pair2leg1link2_Z" type="revolute">
  <origin rpy="0 0 0" xyz="0.37999999999999995 0 0"/>
  <parent link="pair2leg1joint1"/>
  <child link="pair2leg1link2"/>
  <axis xyz="0 1 0"/>
  <dynamics damping="0.01" friction="0.5"/>
  <limit lower="-1.57" upper="1.57" effort="0.01" velocity="100"/>
</joint>

 <link name="pair2leg1joint2">
  <inertial>
    <mass value="1"/>
    <inertia ixx="0.0007893333333333333" ixy="0" ixz="0" iyy="0.0007893333333333333" iyz="0" izz="0.000256"/>
  </inertial>
  <visual>
    <origin rpy="1.57 0 0" xyz="0.58 0 0"/>
    <geometry>
      <cylinder length="0.08" radius="0.032"/>
    </geometry>
  </visual>
  <collision>
    <origin rpy="1.57 0 0" xyz="0.58 0 0"/>
    <geometry>
      <cylinder length="0.08" radius="0.032"/>
    </geometry>
  </collision>
 </link>

<joint name="joint_fixed_pair2leg1link2_pair2leg1joint2" type="fixed">
  <origin rpy="0 0 0" xyz="0 0 0"/>
  <parent link="pair2leg1link2"/>
  <child link="pair2leg1joint2"/>
</joint>

 <link name="pair2leg1link3">
  <inertial>
    <mass value="1"/>
    <inertia ixx="0.007899999999999999" ixy="0" ixz="0" iyy="0.007899999999999999" iyz="0" izz="0.0004"/>
  </inertial>
  <visual>
    <origin rpy="0 1.57 0" xyz="0.19 0 0"/>
    <geometry>
      <cylinder length="0.3" radius="0.04"/>
    </geometry>
  </visual>
  <collision>
    <origin rpy="0 1.57 0" xyz="0.19 0 0"/>
    <geometry>
      <cylinder length="0.3" radius="0.04"/>
    </geometry>
  </collision>
 </link>

<joint name="joint_revolute_pair2leg1joint2_pair2leg1link3_Z" type="revolute">
  <origin rpy="0 0 0" xyz="0.58 0 0"/>
  <parent link="pair2leg1joint2"/>
  <child link="pair2leg1link3"/>
  <axis xyz="0 1 0"/>
  <dynamics damping="0.01" friction="0.5"/>
  <limit lower="-1.57" upper="1.57" effort="0.01" velocity="100"/>
</joint>

<link name="pair2leg1foot" physical="0">
  <inertial>
   <mass value="1"/>
   <inertia ixx="0.4" ixy="0" ixz="0" iyy="0.4" iyz="0" izz="0.4"/>
  </inertial>
</link>

<joint name="joint_fixed_pair2leg1link3_pair2leg1foot" type="fixed">
  <origin rpy="0 0 0" xyz="0.37999999999999995 0 0"/>
  <parent link="pair2leg1link3"/>
  <child link="pair2leg1foot"/>
</joint>

 <link name="pair2leg2central_link">
  <inertial>
    <mass value="1"/>
    <inertia ixx="0.0007893333333333333" ixy="0" ixz="0" iyy="0.0007893333333333333" iyz="0" izz="0.000256"/>
  </inertial>
  <visual>
    <origin rpy="0 0 1.57" xyz="0 0 0"/>
    <geometry>
      <cylinder length="0.08" radius="0.032"/>
    </geometry>
  </visual>
  <collision>
    <origin rpy="0 0 1.57" xyz="0 0 0"/>
    <geometry>
      <cylinder length="0.08" radius="0.032"/>
    </geometry>
  </collision>
 </link>

<joint name="joint_fixed_pair2middle_axis_pair2leg2central_link" type="fixed">
  <origin rpy="0 0 3.14" xyz="-0.19 0 0"/>
  <parent link="pair2middle_axis"/>
  <child link="pair2leg2central_link"/>
</joint>

 <link name="pair2leg2link1">
  <inertial>
    <mass value="1"/>
    <inertia ixx="0.007899999999999999" ixy="0" ixz="0" iyy="0.007899999999999999" iyz="0" izz="0.0004"/>
  </inertial>
  <visual>
    <origin rpy="0 1.57 0" xyz="0.19 0 0"/>
    <geometry>
      <cylinder length="0.3" radius="0.04"/>
    </geometry>
  </visual>
  <collision>
    <origin rpy="0 1.57 0" xyz="0.19 0 0"/>
    <geometry>
      <cylinder length="0.3" radius="0.04"/>
    </geometry>
  </collision>
 </link>

<joint name="joint_revolute_pair2leg2central_link_pair2leg2link1_Z" type="revolute">
  <origin rpy="0 0 0" xyz="0 0 0"/>
  <parent link="pair2leg2central_link"/>
  <child link="pair2leg2link1"/>
  <axis xyz="0 0 1"/>
  <dynamics damping="0.01" friction="0.5"/>
  <limit lower="-1.57" upper="1.57" effort="0.01" velocity="100"/>
</joint>

 <link name="pair2leg2joint1">
  <inertial>
    <mass value="1"/>
    <inertia ixx="0.0007893333333333333" ixy="0" ixz="0" iyy="0.0007893333333333333" iyz="0" izz="0.000256"/>
  </inertial>
  <visual>
    <origin rpy="1.57 0 0" xyz="0.37999999999999995 0 0"/>
    <geometry>
      <cylinder length="0.08" radius="0.032"/>
    </geometry>
  </visual>
  <collision>
    <origin rpy="1.57 0 0" xyz="0.37999999999999995 0 0"/>
    <geometry>
      <cylinder length="0.08" radius="0.032"/>
    </geometry>
  </collision>
 </link>

<joint name="joint_fixed_pair2leg2link1_pair2leg2joint1" type="fixed">
  <origin rpy="0 0 0" xyz="0 0 0"/>
  <parent link="pair2leg2link1"/>
  <child link="pair2leg2joint1"/>
</joint>

 <link name="pair2leg2link2">
  <inertial>
    <mass value="1"/>
    <inertia ixx="0.021233333333333333" ixy="0" ixz="0" iyy="0.021233333333333333" iyz="0" izz="0.0004"/>
  </inertial>
  <visual>
    <origin rpy="0 1.57 0" xyz="0.29 0 0"/>
    <geometry>
      <cylinder length="0.5" radius="0.04"/>
    </geometry>
  </visual>
  <collision>
    <origin rpy="0 1.57 0" xyz="0.29 0 0"/>
    <geometry>
      <cylinder length="0.5" radius="0.04"/>
    </geometry>
  </collision>
 </link>

<joint name="joint_revolute_pair2leg2joint1_pair2leg2link2_Z" type="revolute">
  <origin rpy="0 0 0" xyz="0.37999999999999995 0 0"/>
  <parent link="pair2leg2joint1"/>
  <child link="pair2leg2link2"/>
  <axis xyz="0 1 0"/>
  <dynamics damping="0.01" friction="0.5"/>
  <limit lower="-1.57" upper="1.57" effort="0.01" velocity="100"/>
</joint>

 <link name="pair2leg2joint2">
  <inertial>
    <mass value="1"/>
    <inertia ixx="0.0007893333333333333" ixy="0" ixz="0" iyy="0.0007893333333333333" iyz="0" izz="0.000256"/>
  </inertial>
  <visual>
    <origin rpy="1.57 0 0" xyz="0.58 0 0"/>
    <geometry>
      <cylinder length="0.08" radius="0.032"/>
    </geometry>
  </visual>
  <collision>
    <origin rpy="1.57 0 0" xyz="0.58 0 0"/>
    <geometry>
      <cylinder length="0.08" radius="0.032"/>
    </geometry>
  </collision>
 </link>

<joint name="joint_fixed_pair2leg2link2_pair2leg2joint2" type="fixed">
  <origin rpy="0 0 0" xyz="0 0 0"/>
  <parent link="pair2leg2link2"/>
  <child link="pair2leg2joint2"/>
</joint>

 <link name="pair2leg2link3">
  <inertial>
    <mass value="1"/>
    <inertia ixx="0.007899999999999999" ixy="0" ixz="0" iyy="0.007899999999999999" iyz="0" izz="0.0004"/>
  </inertial>
  <visual>
    <origin rpy="0 1.57 0" xyz="0.19 0 0"/>
    <geometry>
      <cylinder length="0.3" radius="0.04"/>
    </geometry>
  </visual>
  <collision>
    <origin rpy="0 1.57 0" xyz="0.19 0 0"/>
    <geometry>
      <cylinder length="0.3" radius="0.04"/>
    </geometry>
  </collision>
 </link>

<joint name="joint_revolute_pair2leg2joint2_pair2leg2link3_Z" type="revolute">
  <origin rpy="0 0 0" xyz="0.58 0 0"/>
  <parent link="pair2leg2joint2"/>
  <child link="pair2leg2link3"/>
  <axis xyz="0 1 0"/>
  <dynamics damping="0.01" friction="0.5"/>
  <limit lower="-1.57" upper="1.57" effort="0.01" velocity="100"/>
</joint>

<link name="pair2leg2foot" physical="0">
  <inertial>
   <mass value="1"/>
   <inertia ixx="0.4" ixy="0" ixz="0" iyy="0.4" iyz="0" izz="0.4"/>
  </inertial>
</link>

<joint name="joint_fixed_pair2leg2link3_pair2leg2foot" type="fixed">
  <origin rpy="0 0 0" xyz="0.37999999999999995 0 0"/>
  <parent link="pair2leg2link3"/>
  <child link="pair2leg2foot"/>
</joint>

  <klampt package_root="../../.." default_acc_max="4" >
  </klampt>
</robot>
